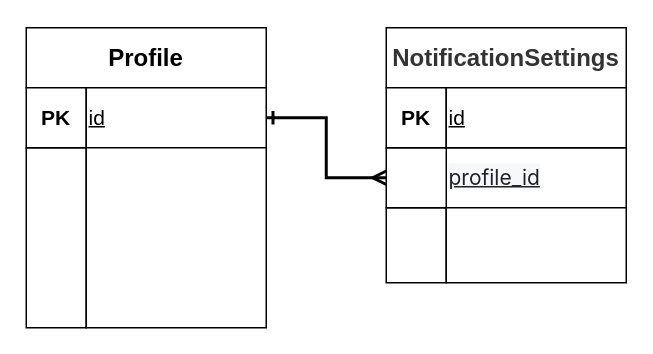
Some shapes in this 653 by 354 pixel diagram are drawn without their labels. Each missing label, with the centre of its shape:
first_name second_name last_name telephone e-mail photo profil_act: [175,237]
FK: [415,177]
parameter value: [535,244]
